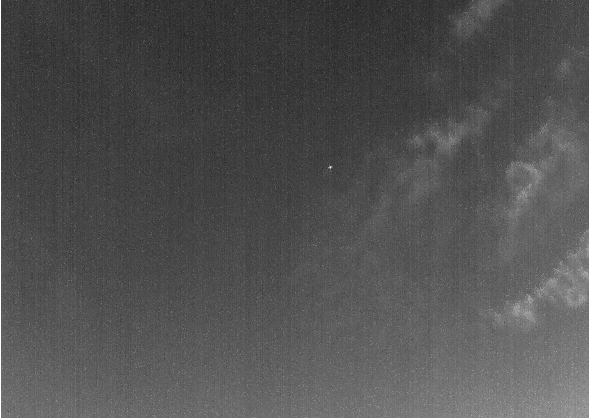dim target: (328, 165, 334, 170)
